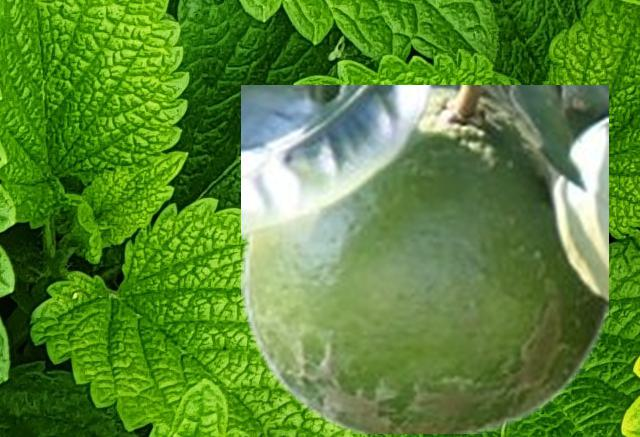dalandan: (241, 85, 607, 432)
